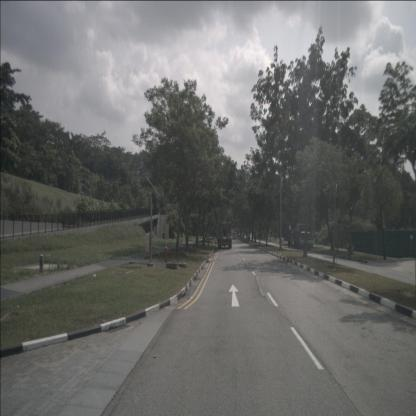vehicle-car: (232, 231, 237, 240)
vehicle-truck: (217, 222, 232, 249), (296, 223, 310, 250), (287, 225, 300, 248)
